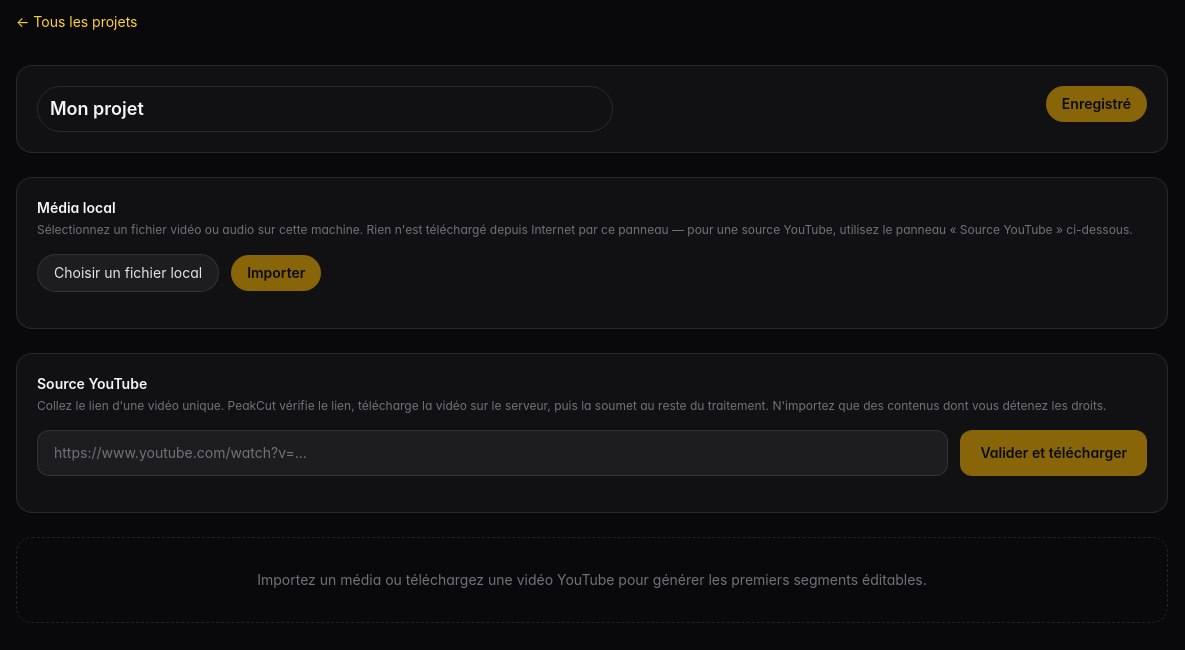
ProjectDetailPage › saves edits via PATCH and reflects the persisted project on success
Replace the text in the field showing "Mon projet" with "Titre modifié" at point(325, 109), box [37, 86, 613, 132]
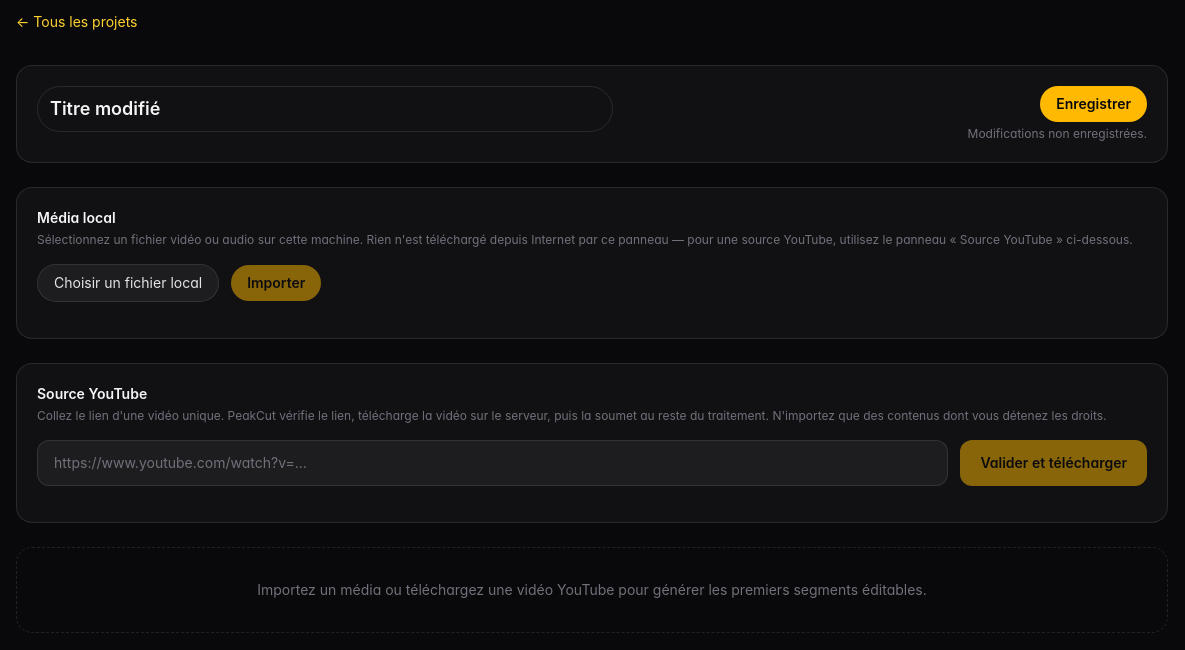
Click the button "Enregistrer" at point(1094, 104), box [1040, 86, 1147, 122]
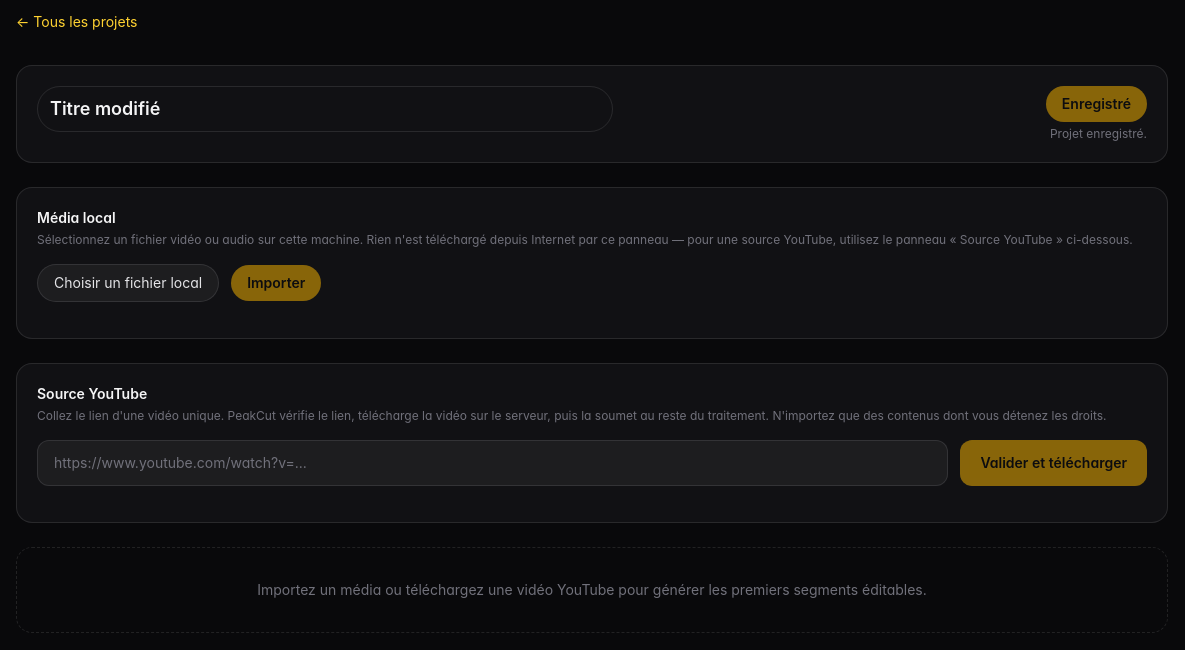
Expected: the text "Projet enregistré." is shown, [1050, 126, 1147, 142]
